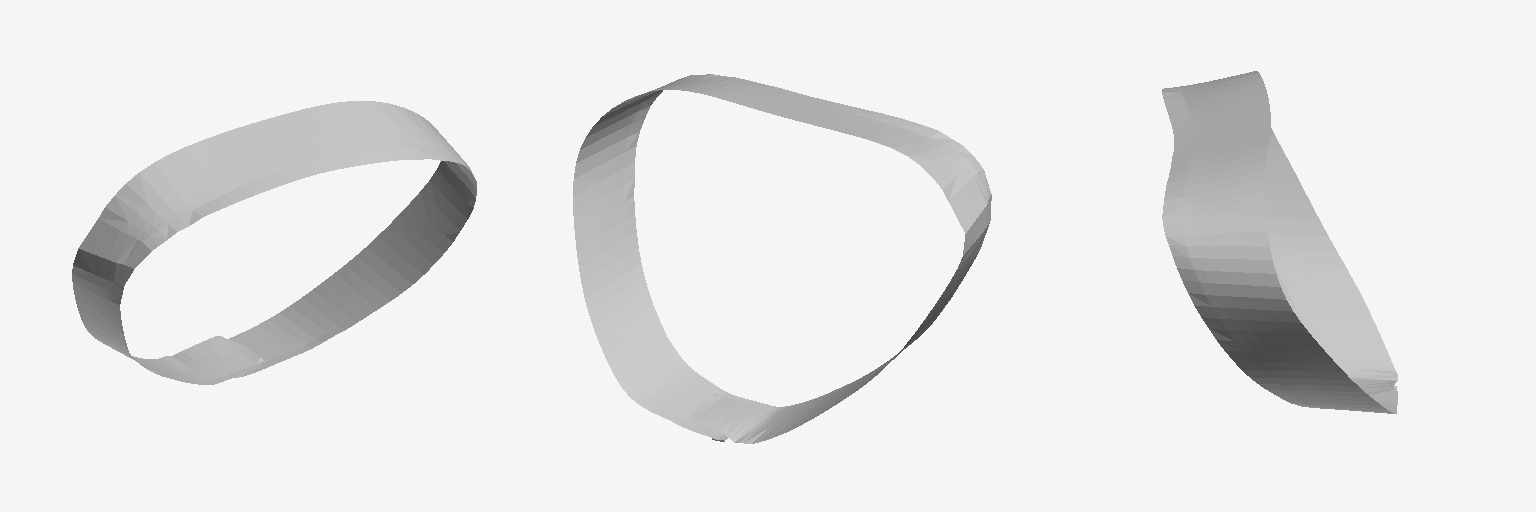
The model's file is inner_collar.obj.
3 views of the same model, side by side, from view 1: azimuth 30°, elevation 25°; view 2: azimuth 150°, elevation 25°; view 3: azimuth 270°, elevation 25° (orthographic).
Parts seen in each view (by area): view 1: inner_collar_in; view 2: inner_collar_in; view 3: inner_collar_in.
Part boxes in pixels (x1,y1,x2,y2): inner_collar_in: (72, 101, 476, 384); inner_collar_in: (573, 74, 991, 443); inner_collar_in: (1162, 71, 1397, 413).
Size of the model in its own units: 16.08 by 11.41 by 8.73.